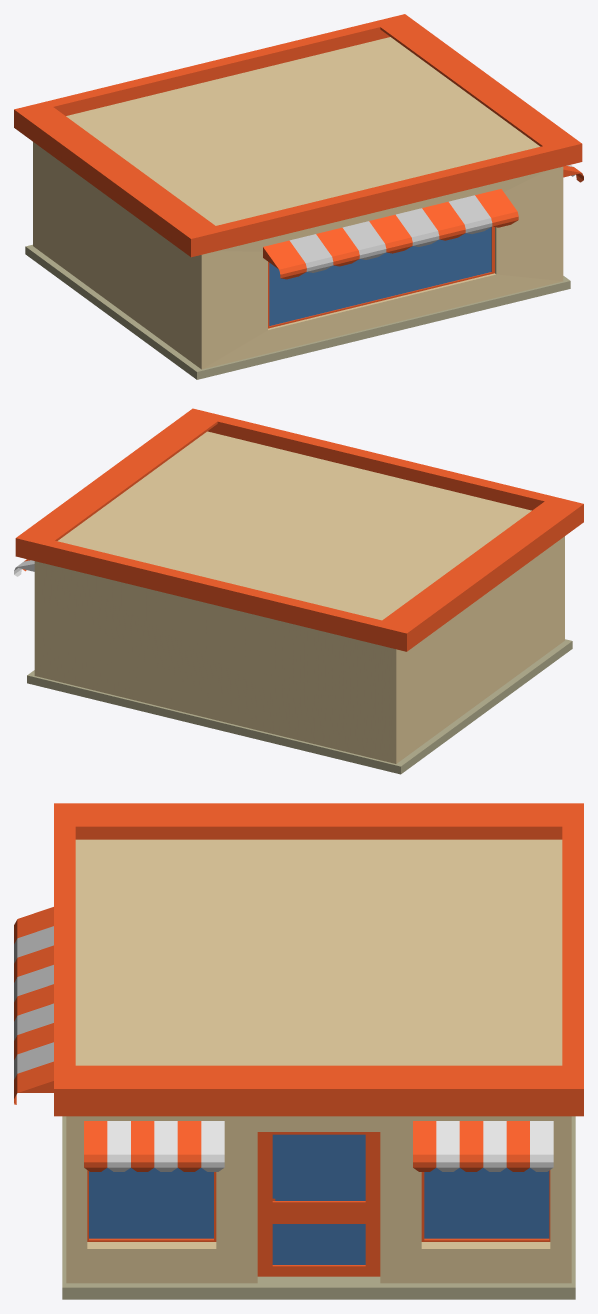
File: Casino2.fbx
The picture shows the model from 3 angles, top to bottom: view 1: azimuth 30°, elevation 25°; view 2: azimuth 150°, elevation 25°; view 3: azimuth 270°, elevation 25°; orthographic projection. The views are drawn at different scales.
Visible parts, largest first — view 1: tetto.001, casa, tetto, finestra.005, pavimento, tenda.003, tenda.001, finestra; view 2: casa, tetto.001, tetto, pavimento; view 3: tetto.001, tetto, casa, pavimento, vetro porta.001, finestra.003, finestra.006, porta, vetro porta.002, tenda.003, tenda.002, tenda.004 (+5 smaller).
Boxes of the visible parts, box(x1,y1,x2,y2) form: tetto.001: box(66, 37, 540, 225); casa: box(33, 142, 563, 369); tetto: box(14, 14, 582, 257); finestra.005: box(269, 227, 491, 325); pavimento: box(25, 244, 570, 379); tenda.003: box(263, 189, 518, 279); tenda.001: box(289, 195, 492, 272); finestra: box(268, 226, 494, 328); casa: box(34, 536, 564, 763); tetto.001: box(57, 431, 531, 620); tetto: box(15, 408, 583, 651); pavimento: box(27, 639, 572, 774); tetto.001: box(75, 839, 562, 1065); tetto: box(54, 803, 583, 1116); casa: box(66, 1116, 571, 1283); pavimento: box(62, 1116, 575, 1299); vetro porta.001: box(272, 1134, 365, 1264); finestra.003: box(424, 1167, 549, 1238); finestra.006: box(89, 1167, 213, 1238); porta: box(257, 1132, 380, 1276); vetro porta.002: box(272, 1134, 365, 1261); tenda.003: box(14, 907, 53, 1104); tenda.002: box(413, 1121, 529, 1171); tenda.004: box(84, 1121, 201, 1171).
Size of the model in its own units: 1065 by 366 by 872.
